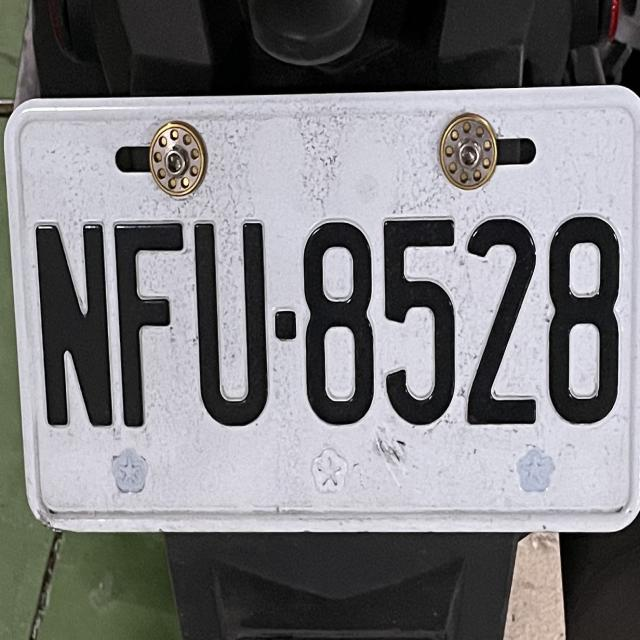license-plate: (0, 83, 638, 539)
